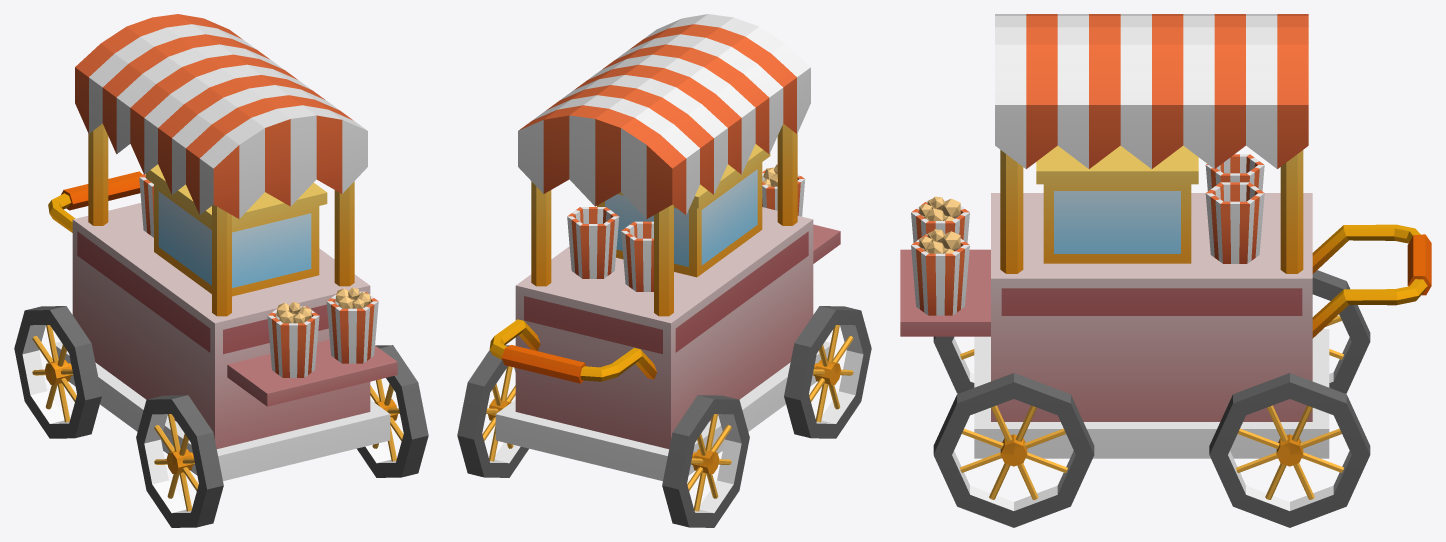
The model's file is popcorn cart.fbx.
3 views of the same model, side by side, from view 1: azimuth 30°, elevation 25°; view 2: azimuth 150°, elevation 25°; view 3: azimuth 270°, elevation 25° (orthographic). The views are drawn at different scales.
Visible parts, largest first — view 1: popcorn_cart_body, front_wheels_popcorn_cart, rear_wheels_popcorn_cart; view 2: popcorn_cart_body, rear_wheels_popcorn_cart, front_wheels_popcorn_cart; view 3: popcorn_cart_body, rear_wheels_popcorn_cart, front_wheels_popcorn_cart.
Boxes of the visible parts, x1,y1,x2,y2 form: popcorn_cart_body: (48, 14, 397, 481); front_wheels_popcorn_cart: (136, 345, 428, 527); rear_wheels_popcorn_cart: (14, 306, 101, 438); popcorn_cart_body: (489, 14, 840, 481); rear_wheels_popcorn_cart: (457, 345, 749, 527); front_wheels_popcorn_cart: (784, 306, 871, 438); popcorn_cart_body: (900, 14, 1431, 458); rear_wheels_popcorn_cart: (1209, 270, 1370, 527); front_wheels_popcorn_cart: (933, 336, 1094, 527).
Size of the model in its own units: 127 by 213 by 234.
1 material, 1 textured.
